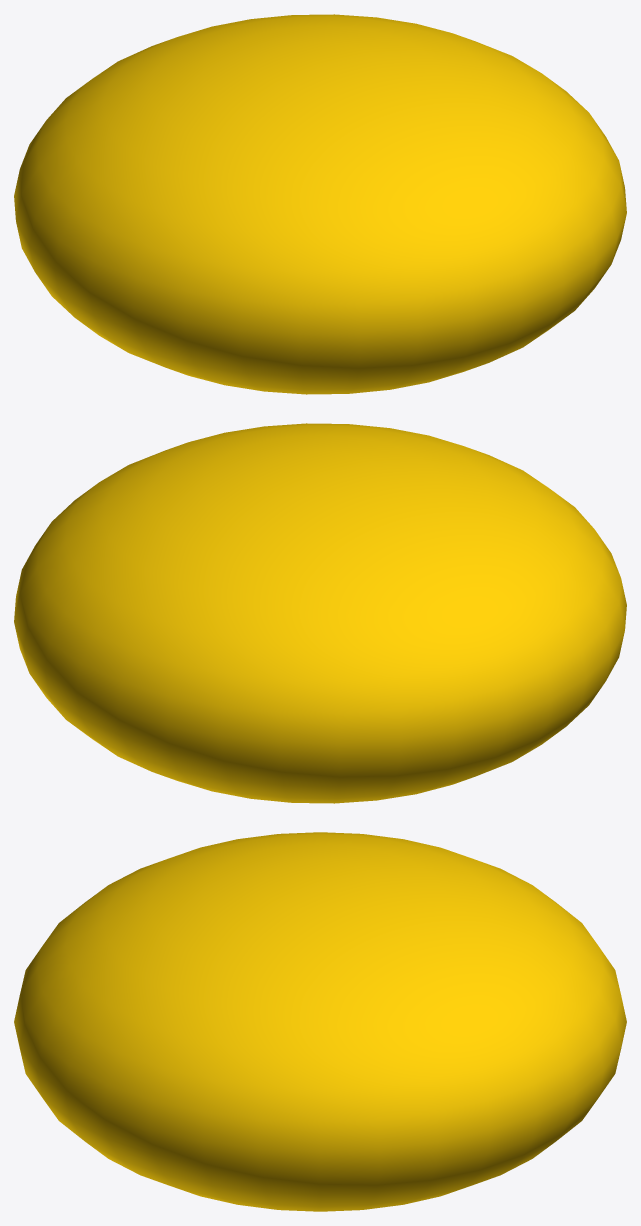
The model's file is BuildingTW_01_F_03.fbx.
The picture shows the model from 3 angles, top to bottom: view 1: azimuth 30°, elevation 25°; view 2: azimuth 150°, elevation 25°; view 3: azimuth 270°, elevation 25°; orthographic projection.
Parts seen in each view (by area): view 1: Top; view 2: Top; view 3: Top.
Part boxes in pixels (box(x1,y1,x2,y2)): Top: box(14, 14, 626, 394); Top: box(14, 423, 626, 803); Top: box(14, 832, 626, 1211).
Size of the model in its own units: 4 by 2 by 4.
